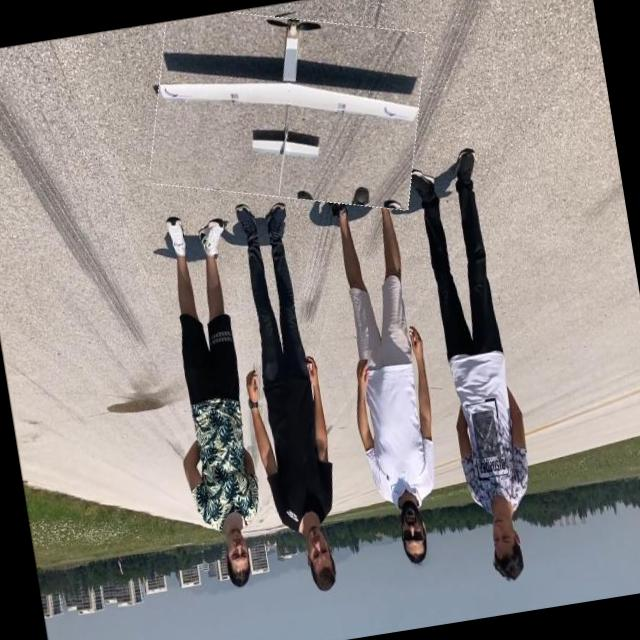UAV: (151, 1, 438, 225)
